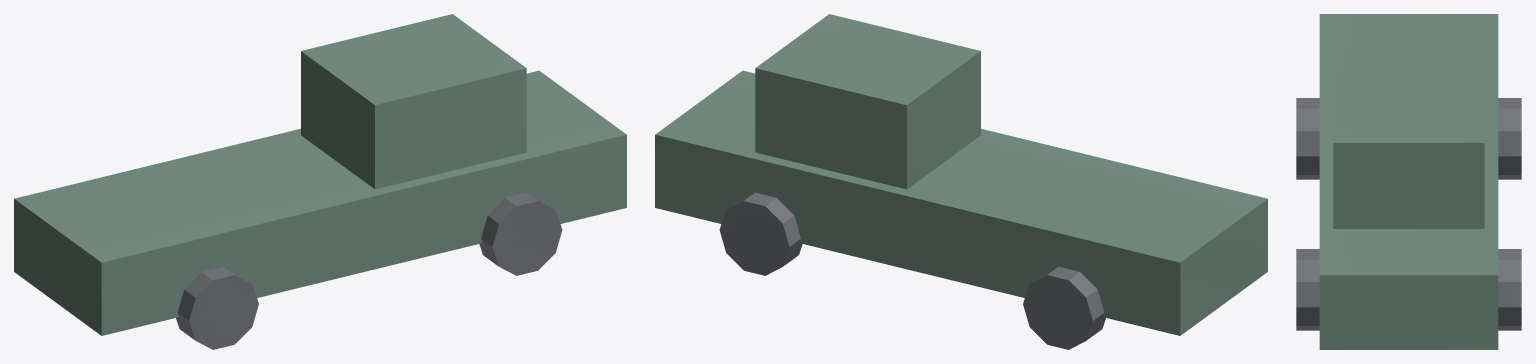
File: train-06.glb
3 renders of one model, left to right at view 1: azimuth 30°, elevation 25°; view 2: azimuth 150°, elevation 25°; view 3: azimuth 270°, elevation 25°, orthographic.
Visible parts, largest first — view 1: world; view 2: world; view 3: world.
Boxes of the visible parts, x1=… form: world: x1=14, y1=14, x2=626, y2=349; world: x1=655, y1=14, x2=1267, y2=349; world: x1=1296, y1=14, x2=1521, y2=349.
Bounding box in the file's own units: 2.25 × 0.7677 × 0.82.
